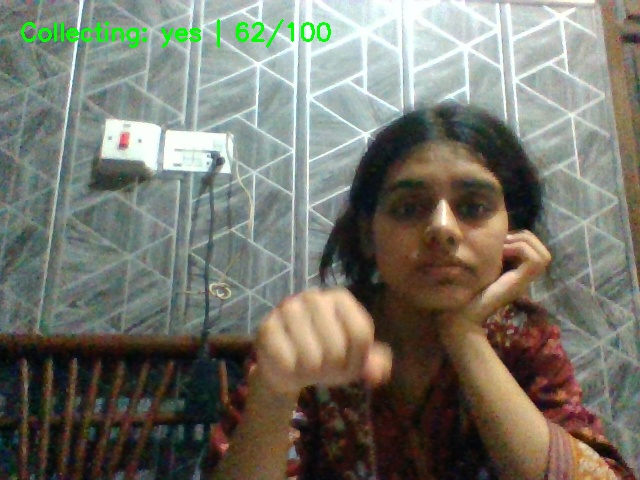yes: (243, 284, 415, 416)
